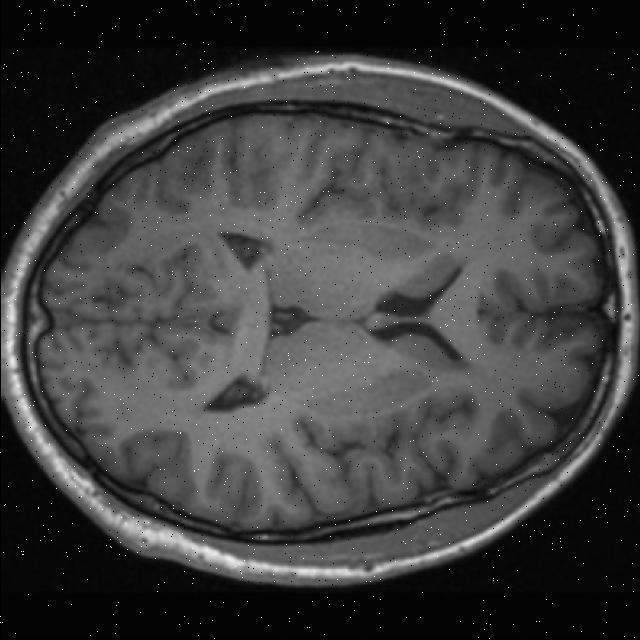No_Tumor: (3, 55, 639, 586)
